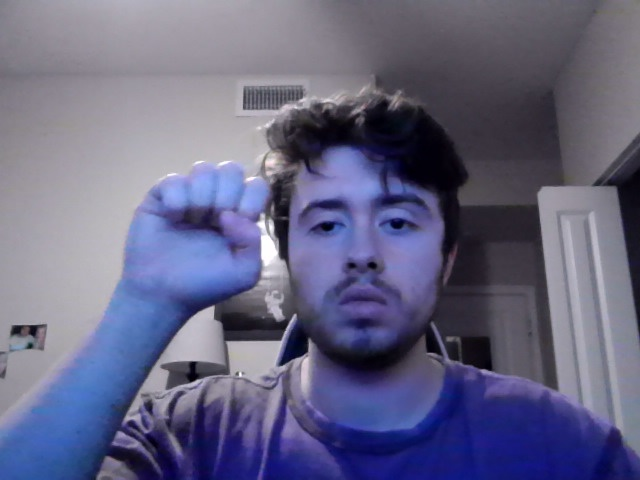e: (121, 159, 269, 333)
